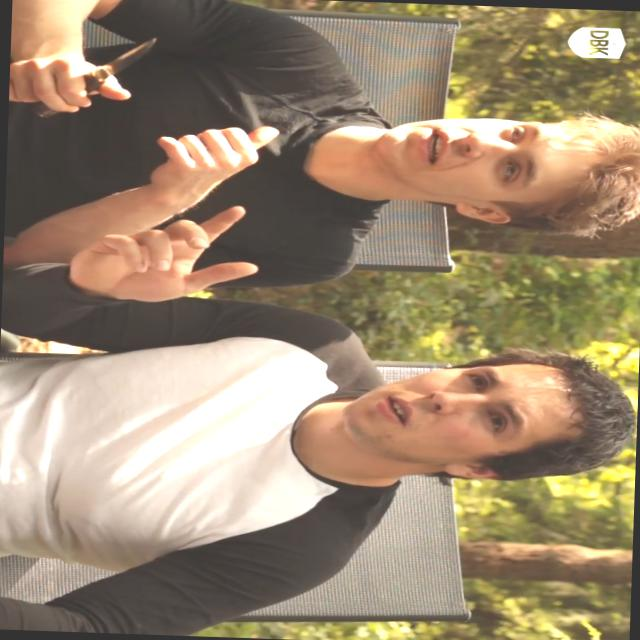knife: (28, 24, 174, 121)
